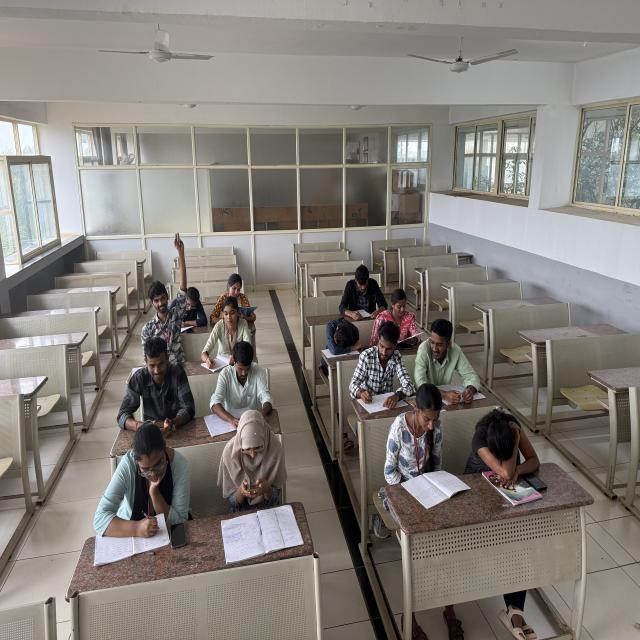Hand Rising: (139, 227, 190, 354)
Reading: (383, 381, 459, 503), (206, 333, 276, 432), (369, 286, 422, 346), (337, 261, 388, 320), (214, 272, 258, 322)
Sleeping: (459, 403, 542, 490), (322, 317, 369, 362)
Using Phone: (214, 406, 298, 538), (115, 333, 198, 440)
Writing: (90, 418, 192, 554), (348, 316, 418, 421), (192, 295, 252, 379), (168, 284, 214, 334)
